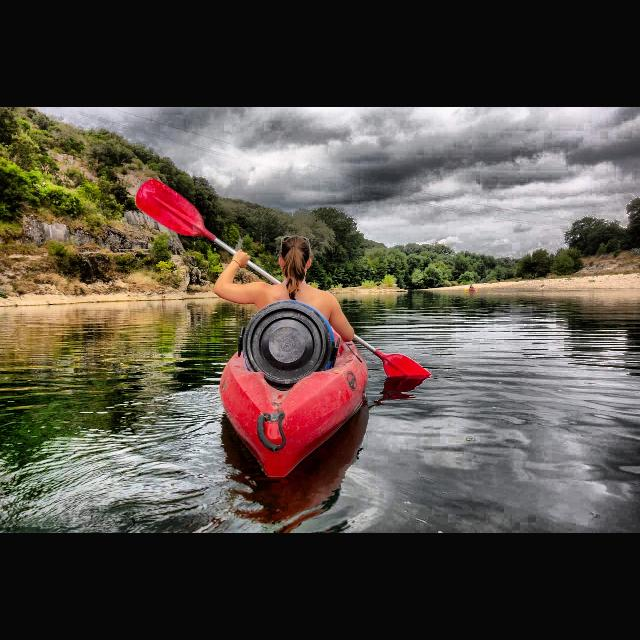kayak: (219, 319, 369, 479)
